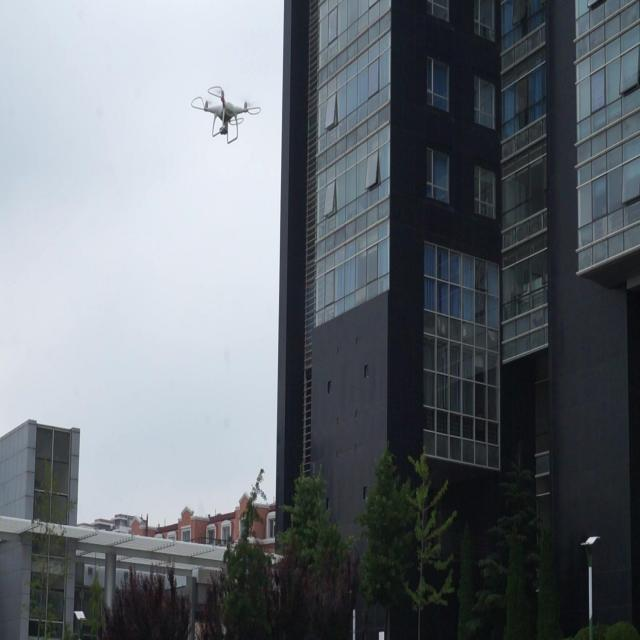UAV: (191, 86, 261, 144)
